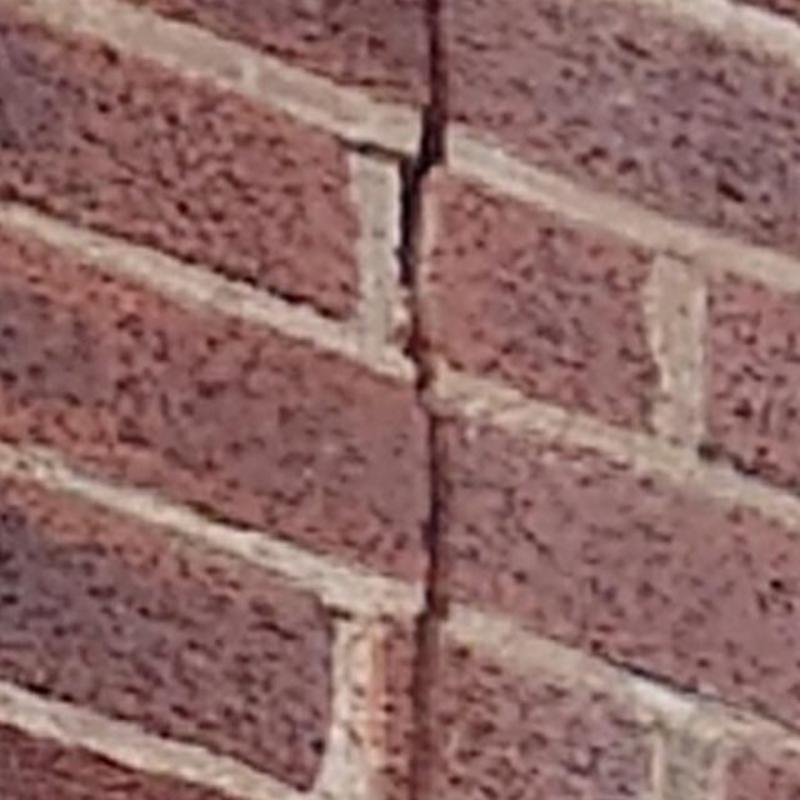crack: (341, 0, 450, 393), (412, 412, 447, 799)
